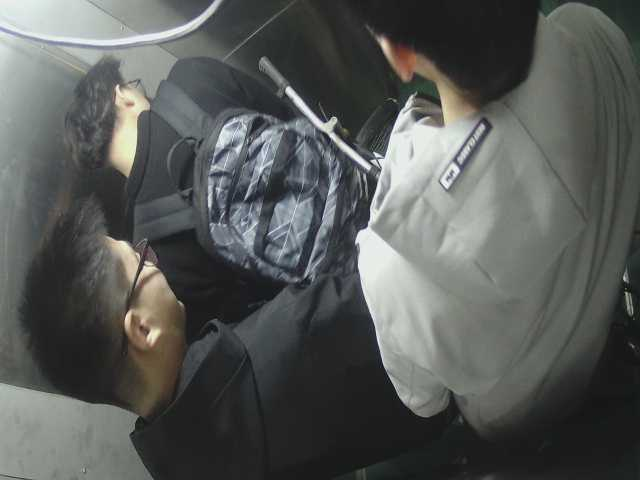bag: (174, 102, 375, 286)
person: (356, 9, 632, 433), (26, 205, 438, 465), (66, 49, 382, 293)
